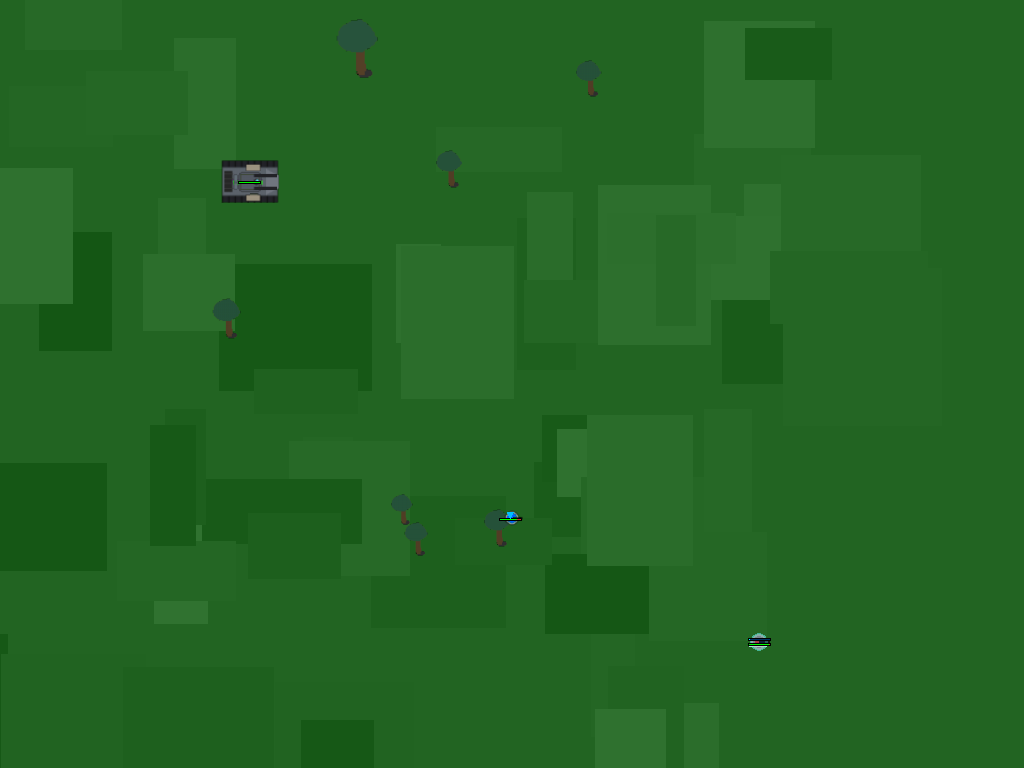APC_rus: (223, 154, 274, 205)
Rifleman: (495, 501, 525, 531)
Shotgunner: (744, 627, 774, 657)
